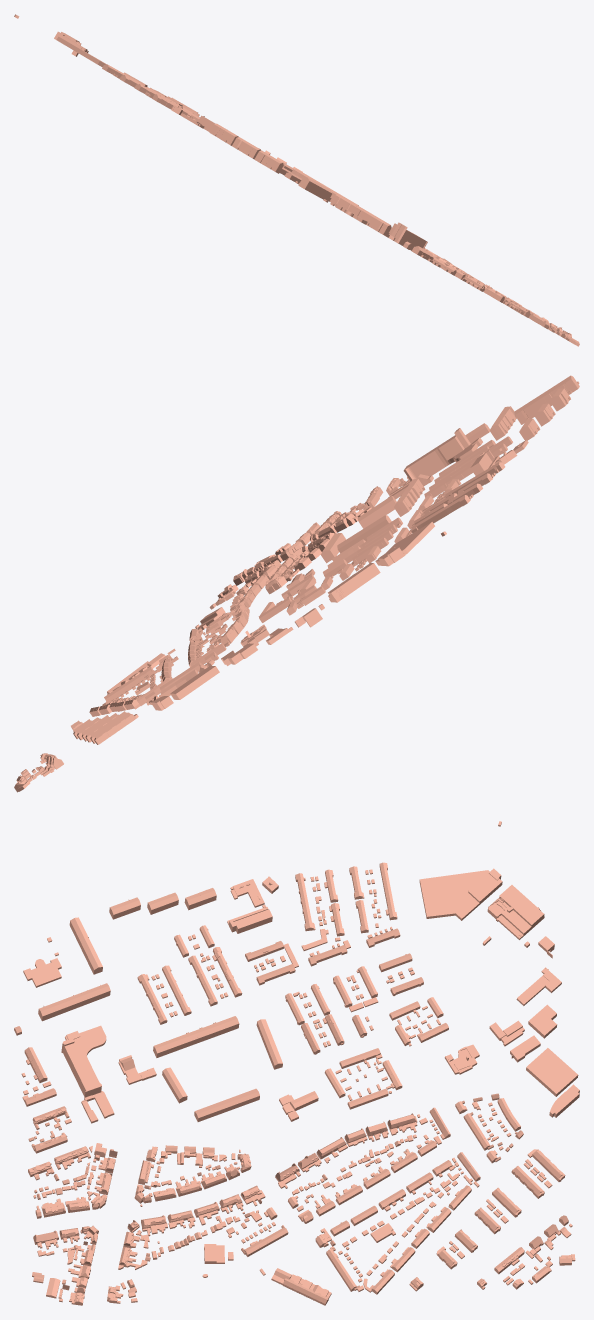
3 views of the same model, one above another, from view 1: azimuth 30°, elevation 25°; view 2: azimuth 150°, elevation 25°; view 3: azimuth 270°, elevation 25° (orthographic). The views are drawn at different scales.
Size of the model in its own units: 507 by 369 by 630.
